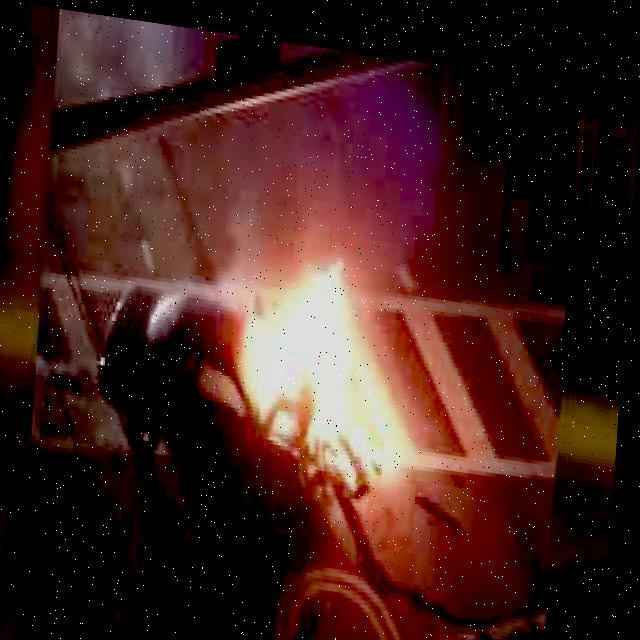Fire: (226, 231, 442, 499)
